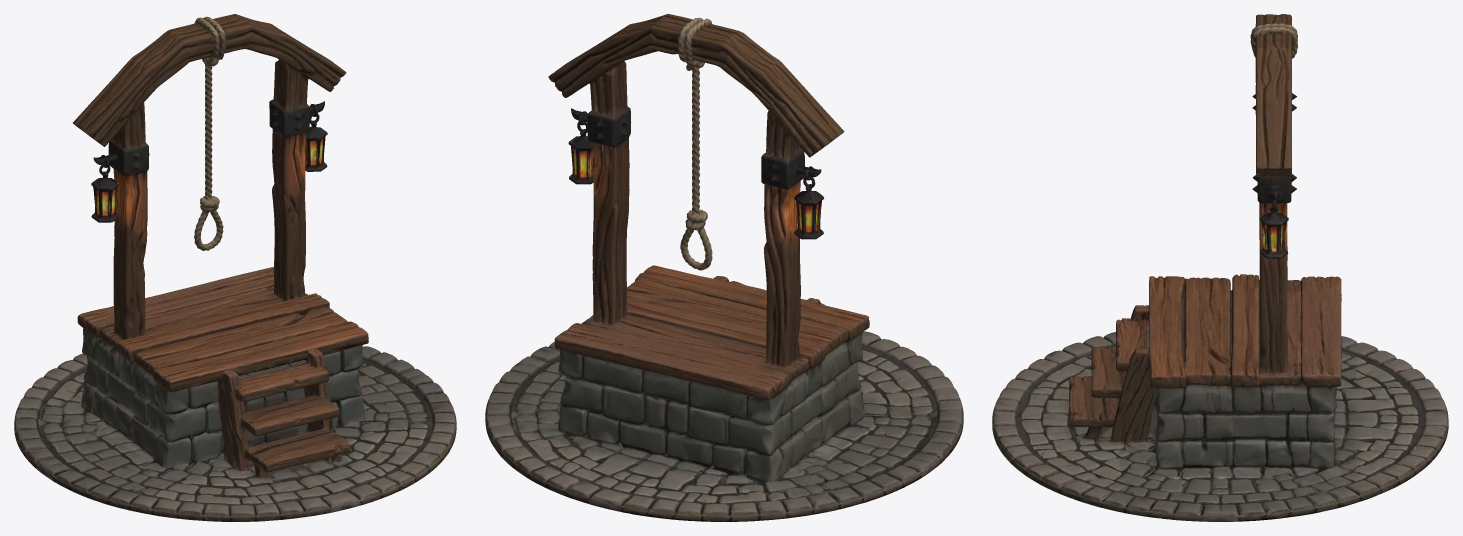
Rendered from Meshy_AI_potence_0415121815_texture.glb.
The picture shows the model from 3 angles, left to right: view 1: azimuth 30°, elevation 25°; view 2: azimuth 150°, elevation 25°; view 3: azimuth 270°, elevation 25°; orthographic projection. The views are drawn at different scales.
Size of the model in its own units: 1.9 by 1.84 by 1.9.
1 material, 1 textured.
